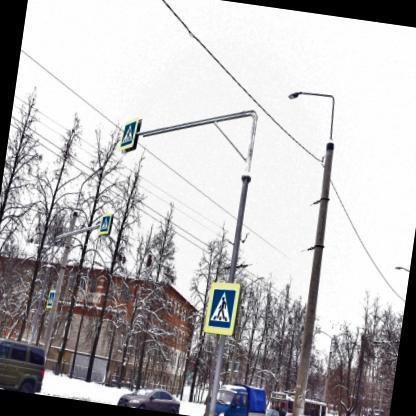road_sign: (204, 283, 239, 335), (120, 119, 140, 152), (98, 214, 113, 235), (45, 288, 55, 308)
